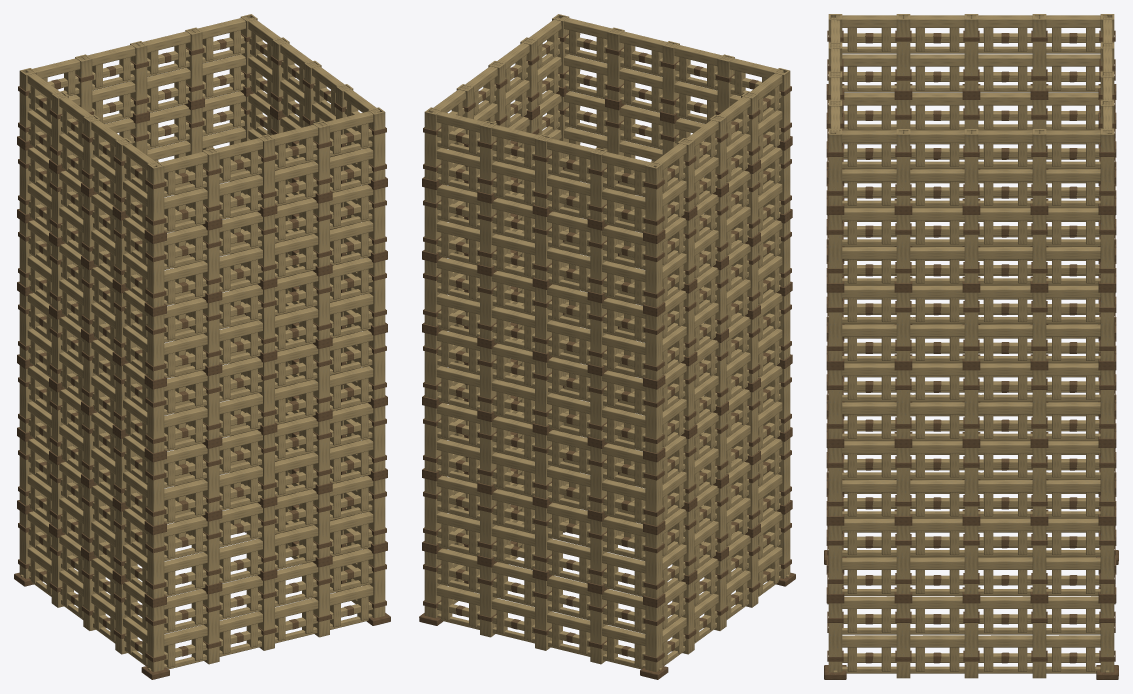
The picture shows the model from 3 angles, left to right: view 1: azimuth 30°, elevation 25°; view 2: azimuth 150°, elevation 25°; view 3: azimuth 270°, elevation 25°; orthographic projection. The views are drawn at different scales.
Parts seen in each view (by area): view 1: Tier 6 side 0 post 0, Tier 0 side 0 post 0, Tier 5 side 0 post 0, Tier 4 side 0 post 0, Tier 2 side 0 post 0, Tier 1 side 0 post 0, Tier 3 side 0 post 0, Tier 6 side 2 post 2, Tier 6 side 1 post 0, Tier 6 side 2 post 1, Tier 6 side 0 post 1, Tier 0 side 0 post 1 (+65 smaller); view 2: Tier 6 side 3 post 0, Tier 0 side 3 post 0, Tier 1 side 3 post 0, Tier 4 side 3 post 0, Tier 5 side 3 post 0, Tier 2 side 3 post 0, Tier 3 side 3 post 0, Tier 6 side 2 post 0, Tier 6 side 0 post 2, Tier 6 side 0 post 3, Tier 0 side 2 post 3, Tier 6 side 2 post 3 (+65 smaller); view 3: Tier 6 side 3 post 1, Tier 6 side 3 post 2, Tier 6 side 3 post 3, Tier 0 side 1 post 1, Tier 0 side 1 post 2, Tier 0 side 1 post 3, Tier 6 side 1 post 1, Tier 6 side 1 post 2, Tier 6 side 1 post 3, Tier 6 side 2 post 0, Tier 6 side 1 post 0, Tier 2 side 1 post 0 (+94 smaller).
Boxes of the visible parts, x1,y1,x2,y2 form: Tier 6 side 0 post 0: (147, 161, 164, 234); Tier 0 side 0 post 0: (147, 604, 164, 672); Tier 5 side 0 post 0: (147, 240, 164, 307); Tier 4 side 0 post 0: (147, 313, 164, 380); Tier 2 side 0 post 0: (147, 458, 164, 525); Tier 1 side 0 post 0: (147, 531, 164, 598); Tier 3 side 0 post 0: (147, 386, 164, 453); Tier 6 side 2 post 2: (130, 41, 147, 114); Tier 6 side 1 post 0: (368, 107, 385, 180); Tier 6 side 2 post 1: (185, 27, 202, 101); Tier 6 side 0 post 1: (202, 148, 219, 221); Tier 0 side 0 post 1: (203, 592, 219, 664); Tier 6 side 3 post 0: (645, 161, 662, 234); Tier 0 side 3 post 0: (645, 604, 662, 672); Tier 1 side 3 post 0: (645, 531, 662, 598); Tier 4 side 3 post 0: (645, 313, 662, 380); Tier 5 side 3 post 0: (645, 240, 662, 307); Tier 2 side 3 post 0: (645, 458, 662, 525); Tier 3 side 3 post 0: (645, 386, 662, 453); Tier 6 side 2 post 0: (424, 107, 441, 180); Tier 6 side 0 post 2: (662, 41, 679, 114); Tier 6 side 0 post 3: (607, 27, 624, 101); Tier 0 side 2 post 3: (590, 592, 606, 664); Tier 6 side 2 post 3: (590, 147, 607, 221); Tier 6 side 3 post 1: (1032, 14, 1046, 90); Tier 6 side 3 post 2: (964, 14, 978, 90); Tier 6 side 3 post 3: (896, 14, 910, 90); Tier 0 side 1 post 1: (896, 603, 910, 678); Tier 0 side 1 post 2: (964, 603, 978, 678); Tier 0 side 1 post 3: (1032, 603, 1046, 678); Tier 6 side 1 post 1: (896, 129, 910, 205); Tier 6 side 1 post 2: (964, 129, 978, 205); Tier 6 side 1 post 3: (1032, 129, 1046, 205); Tier 6 side 2 post 0: (1100, 129, 1114, 205); Tier 6 side 1 post 0: (828, 129, 842, 205); Tier 2 side 1 post 0: (828, 448, 842, 516).
Bounding box in the file's own units: 1.95 × 3.97 × 1.95.
2 materials, 2 textured.
